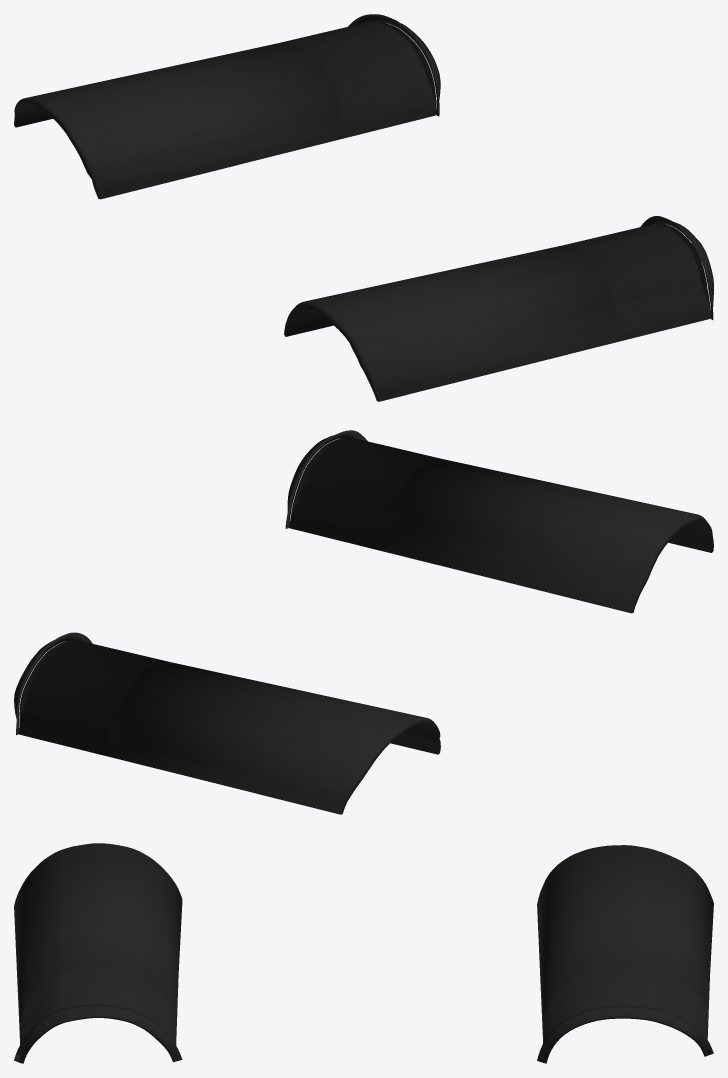
The model's file is DT61_fender_flares_carbon.glb.
3 renders of one model, top to bottom at view 1: azimuth 30°, elevation 25°; view 2: azimuth 150°, elevation 25°; view 3: azimuth 270°, elevation 25°, orthographic. The views are drawn at different scales.
Visible parts, largest first — view 1: MOD_NA_DT61_rear_R, MOD_NA_DT61_front_R, MOD_NA_DT61_rear_L, MOD_NA_DT61_front_L; view 2: MOD_NA_DT61_front_R, MOD_NA_DT61_rear_R, MOD_NA_DT61_rear_L, MOD_NA_DT61_front_L; view 3: MOD_NA_DT61_rear_R, MOD_NA_DT61_front_R, MOD_NA_DT61_front_L, MOD_NA_DT61_rear_L.
Part boxes in pixels (box(x1,y1,x2,y2)): MOD_NA_DT61_rear_R: box(14, 22, 436, 199); MOD_NA_DT61_front_R: box(284, 224, 711, 401); MOD_NA_DT61_rear_L: box(348, 14, 440, 116); MOD_NA_DT61_front_L: box(640, 216, 713, 319); MOD_NA_DT61_front_R: box(290, 438, 713, 613); MOD_NA_DT61_rear_R: box(19, 640, 440, 814); MOD_NA_DT61_rear_L: box(14, 632, 92, 735); MOD_NA_DT61_front_L: box(285, 430, 367, 528); MOD_NA_DT61_rear_R: box(537, 845, 713, 1043); MOD_NA_DT61_front_R: box(14, 843, 182, 1045); MOD_NA_DT61_front_L: box(14, 1004, 182, 1063); MOD_NA_DT61_rear_L: box(537, 1006, 713, 1063).
Size of the model in its own units: 1.74 by 0.2937 by 3.06.
1 material, 1 textured.
